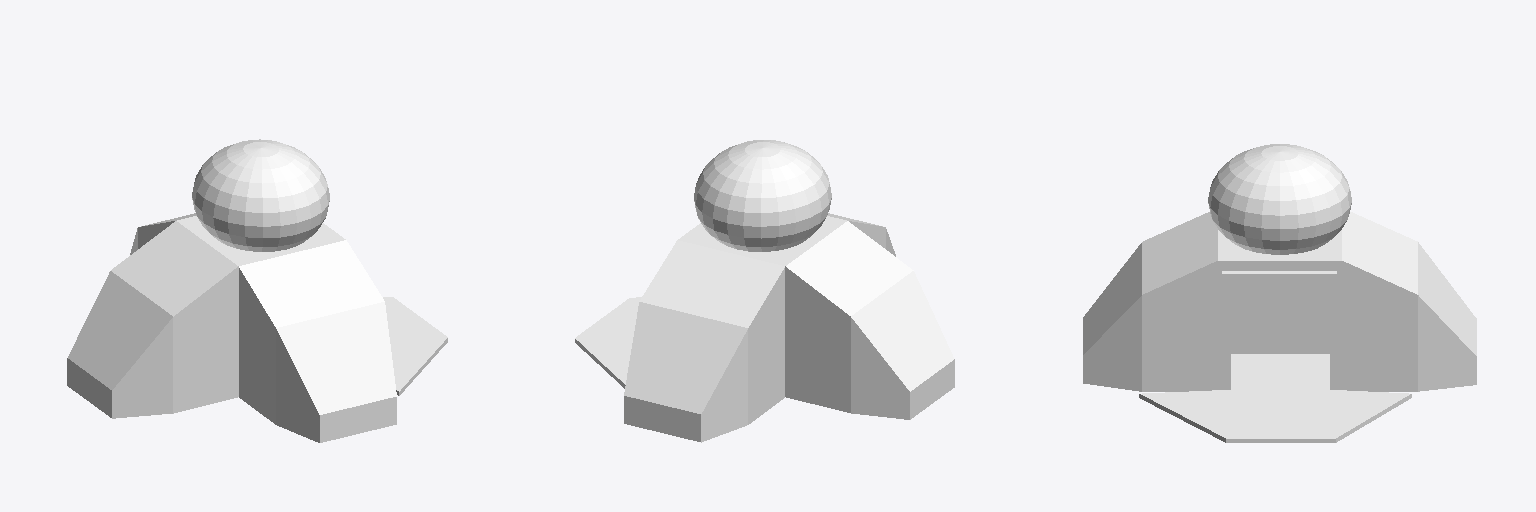
The model's file is HumanHQ.obj.
3 views of the same model, side by side, from view 1: azimuth 30°, elevation 25°; view 2: azimuth 150°, elevation 25°; view 3: azimuth 270°, elevation 25° (orthographic).
Visible parts, largest first — view 1: HumanHQ.obj; view 2: HumanHQ.obj; view 3: HumanHQ.obj.
Part boxes in pixels (x1,y1,x2,y2): HumanHQ.obj: (67,139,447,442); HumanHQ.obj: (575,140,954,442); HumanHQ.obj: (1083,144,1476,442).
Bounding box in the file's own units: 1.16 × 0.7177 × 1.2.